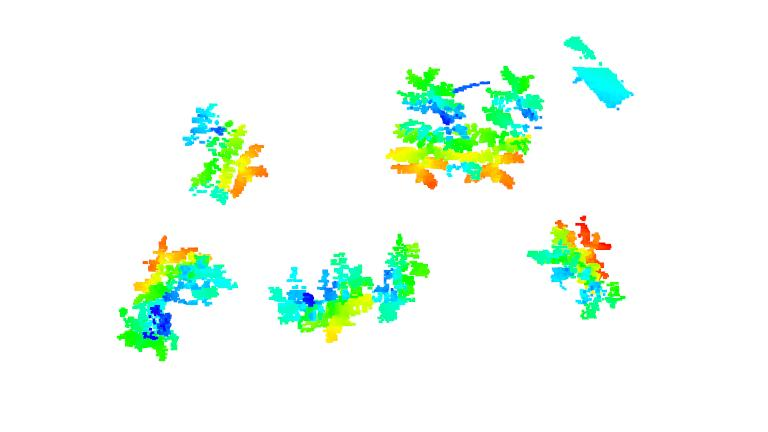chickpea: (115, 243, 237, 360), (389, 66, 470, 187), (533, 215, 626, 319), (465, 65, 541, 186), (181, 103, 269, 200), (276, 254, 374, 338), (369, 240, 429, 323)
